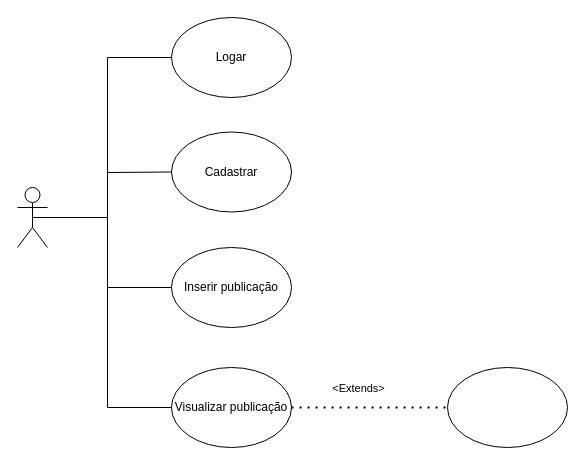
Image size: 585x465. Some labels were removed from this diagram. The shapes that lost their labels are listed below. From the top down, each one's centre as x and y in pixels, then its label:
At [32,217]: "Actor".
At [507,407]: "Editar publicação".
